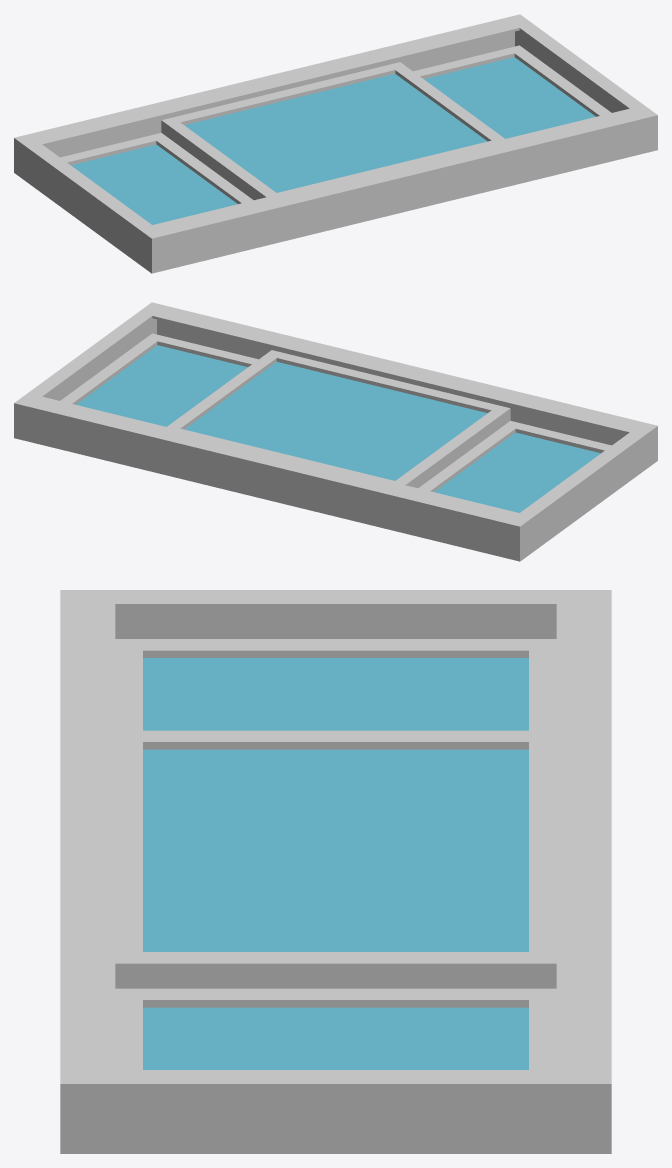
File: 798 Series 2 Panel.fbx
The picture shows the model from 3 angles, top to bottom: view 1: azimuth 30°, elevation 25°; view 2: azimuth 150°, elevation 25°; view 3: azimuth 270°, elevation 25°; orthographic projection. The views are drawn at different scales.
Visible parts, largest first — view 1: Body9, Body3, Body4, Body1, Body7, Body2, Body6; view 2: Body9, Body3, Body4, Body1, Body7, Body2, Body6; view 3: Body9, Body3, Body1, Body7, Body4, Body6, Body2.
Boxes of the visible parts, x1,y1,x2,y2 form: Body9: (14, 14, 657, 273); Body3: (184, 74, 487, 192); Body4: (424, 57, 595, 138); Body1: (161, 62, 504, 200); Body7: (71, 144, 237, 224); Body2: (413, 45, 611, 116); Body6: (60, 133, 253, 203); Body9: (14, 302, 657, 561); Body3: (184, 362, 487, 480); Body4: (76, 345, 247, 426); Body1: (167, 350, 510, 488); Body7: (434, 432, 600, 512); Body2: (60, 333, 258, 404); Body6: (418, 421, 611, 491); Body9: (60, 590, 611, 1153); Body3: (143, 749, 528, 951); Body1: (115, 730, 556, 988); Body7: (143, 658, 528, 730); Body4: (143, 1007, 528, 1069); Body6: (115, 639, 556, 730); Body2: (115, 988, 556, 1069).
Bounding box in the file's own units: 21.2 × 1.4 × 10.
